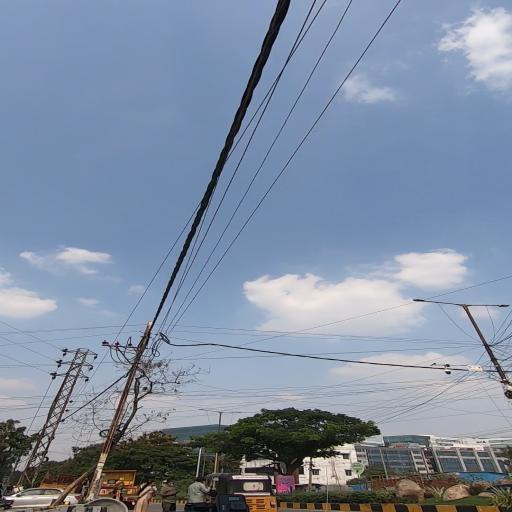Street_light: (409, 296, 460, 310), (467, 299, 509, 313), (195, 406, 216, 414), (220, 410, 246, 416)
